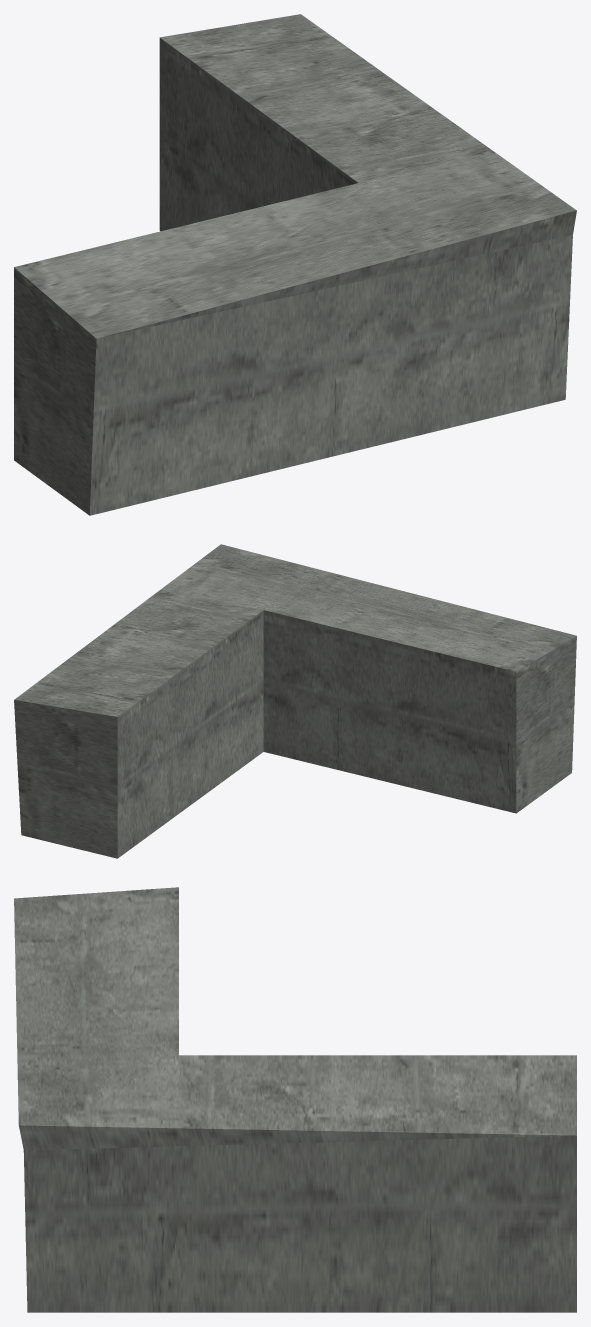
File: PlatformCorner_LOD1.fbx
3 renders of one model, top to bottom at view 1: azimuth 30°, elevation 25°; view 2: azimuth 150°, elevation 25°; view 3: azimuth 270°, elevation 25°, orthographic. The views are drawn at different scales.
Visible parts, largest first — view 1: PlatformCorner.001; view 2: PlatformCorner.001; view 3: PlatformCorner.001.
Boxes of the visible parts, left/top/right/bottom form: PlatformCorner.001: left=14, top=14, right=576, bottom=515; PlatformCorner.001: left=14, top=544, right=576, bottom=858; PlatformCorner.001: left=14, top=887, right=576, bottom=1312.
Bounding box in the file's own units: 1.18 × 0.45 × 1.19.
Materials: 1 (1 with a texture image).
